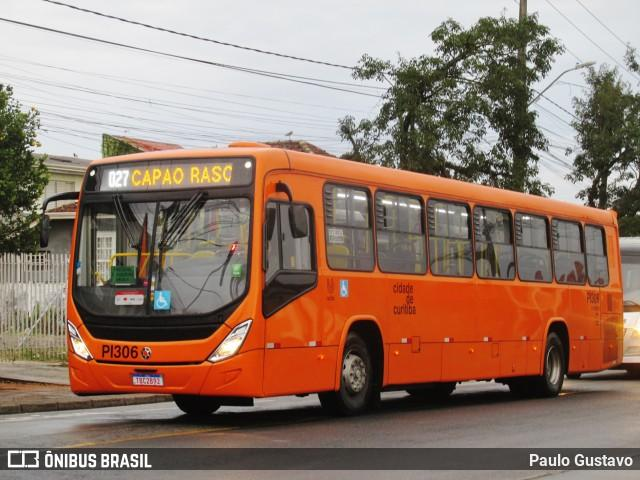CAPAO RASO: (129, 163, 237, 187)
